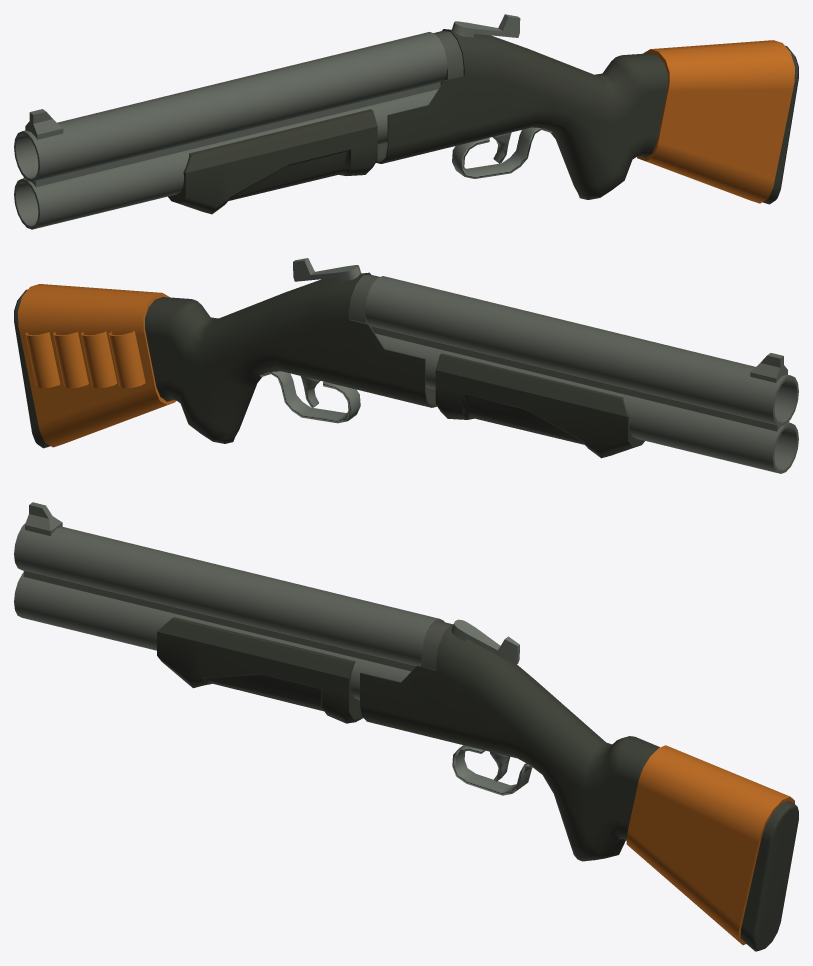
The model's file is SM_Shotgun.fbx.
The picture shows the model from 3 angles, top to bottom: view 1: azimuth 30°, elevation 25°; view 2: azimuth 150°, elevation 25°; view 3: azimuth 330°, elevation 25°; orthographic projection.
Visible parts, largest first — view 1: Plane, Cube.001, Cube.002; view 2: Plane, Cube.001, Cube.002; view 3: Plane, Cube.001, Cube.002.
Boxes of the visible parts, box(x1,y1,x2,y2) form: Plane: box(376, 14, 798, 204); Cube.001: box(14, 32, 447, 229); Cube.002: box(168, 109, 377, 214); Plane: box(14, 258, 436, 448); Cube.001: box(365, 276, 798, 473); Cube.002: box(435, 353, 644, 458); Plane: box(360, 619, 798, 951); Cube.001: box(14, 502, 444, 700); Cube.002: box(157, 617, 362, 723).
Bounding box in the file's own units: 406 × 136 × 36.55.
